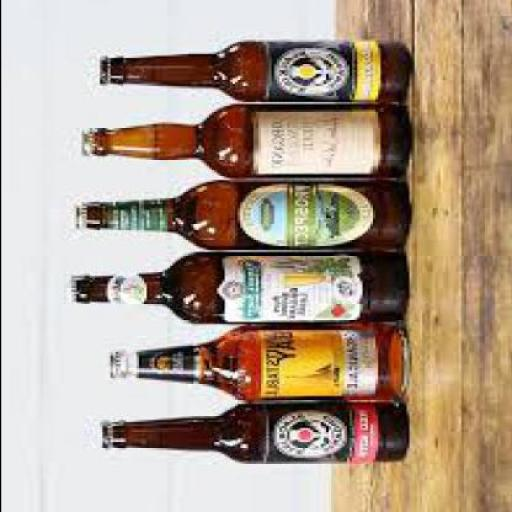glass: (86, 178, 403, 252), (88, 102, 401, 176), (114, 320, 402, 400), (76, 250, 403, 320), (104, 400, 403, 462), (109, 40, 405, 100)
metal: (107, 350, 122, 379), (63, 274, 75, 300), (70, 197, 80, 226), (93, 52, 101, 80), (81, 126, 88, 155)
